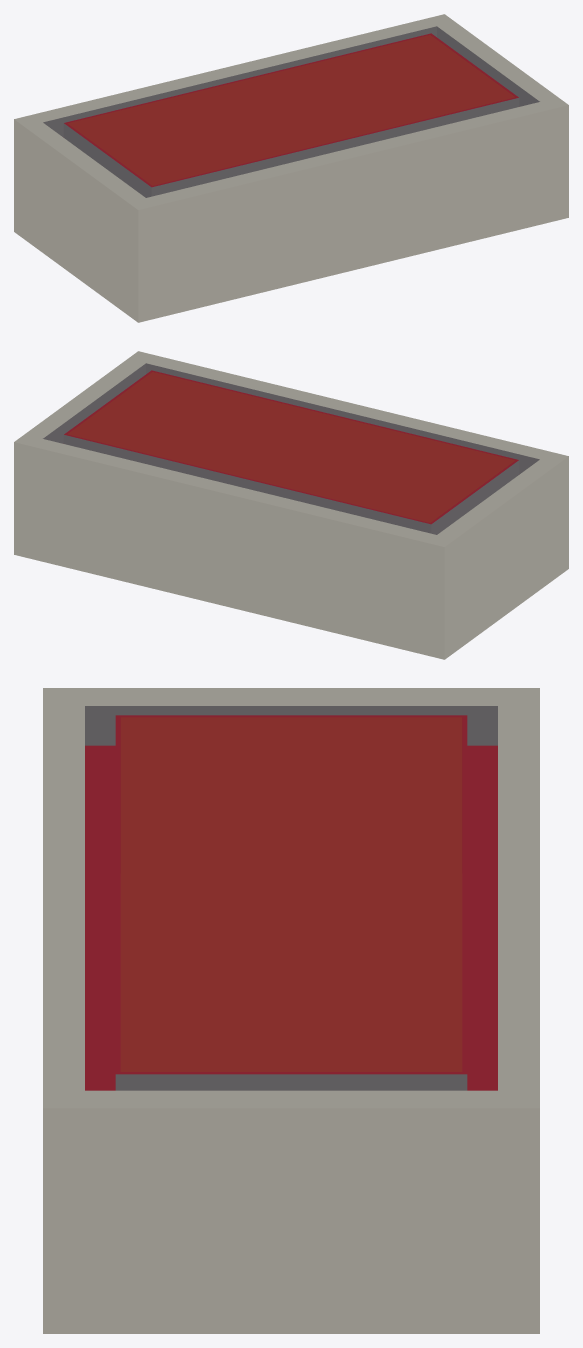
File: hell.glb
3 renders of one model, top to bottom at view 1: azimuth 30°, elevation 25°; view 2: azimuth 150°, elevation 25°; view 3: azimuth 270°, elevation 25°, orthographic. The views are drawn at different scales.
Visible parts, largest first — view 1: Hell; view 2: Hell; view 3: Hell.
Boxes of the visible parts, box(x1,y1,x2,y2) form: Hell: box(14, 14, 568, 322); Hell: box(14, 351, 568, 659); Hell: box(43, 688, 539, 1333).
Bounding box in the file's own units: 2 × 0.5079 × 1.
